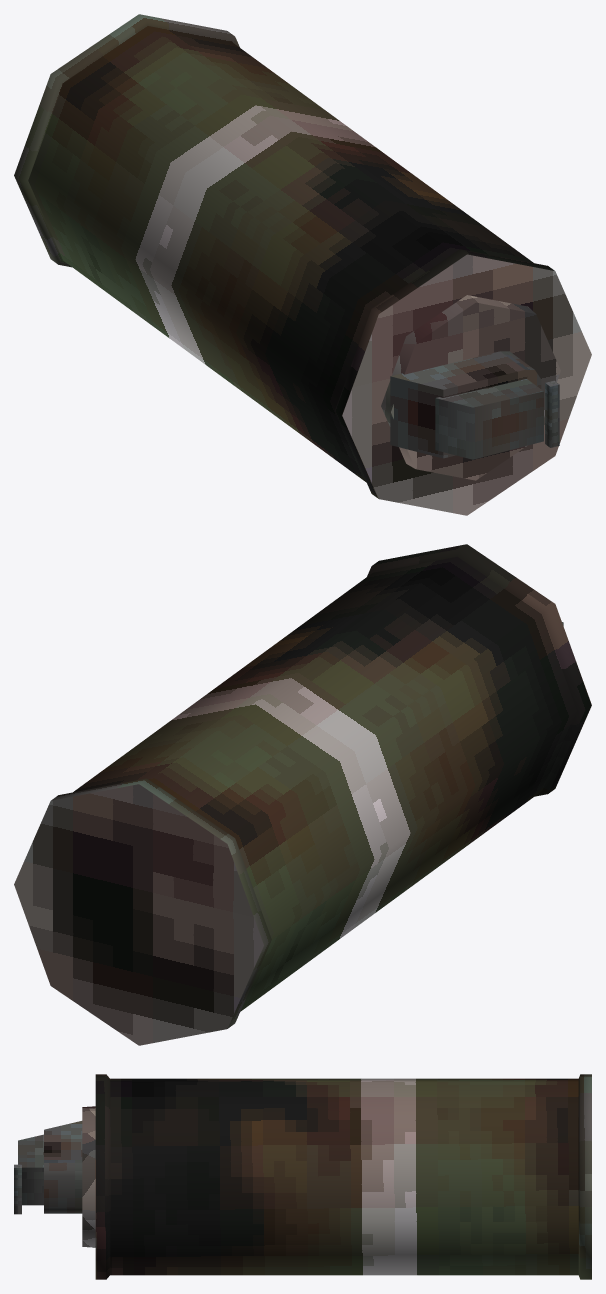
Rendered from weapon_us_smoke_grenade_burnt_LOD1.obj.
3 renders of one model, top to bottom at view 1: azimuth 30°, elevation 25°; view 2: azimuth 150°, elevation 25°; view 3: azimuth 270°, elevation 25°, orthographic. The views are drawn at different scales.
Visible parts, largest first — view 1: mtl_us_smoke_grenade_burnt; view 2: mtl_us_smoke_grenade_burnt; view 3: mtl_us_smoke_grenade_burnt.
Part boxes in pixels (x1=…): mtl_us_smoke_grenade_burnt: x1=14, y1=14, x2=591, y2=515; mtl_us_smoke_grenade_burnt: x1=14, y1=544, x2=591, y2=1045; mtl_us_smoke_grenade_burnt: x1=14, y1=1074, x2=591, y2=1279.
Size of the model in its own units: 5.46 by 5.46 by 14.45.
